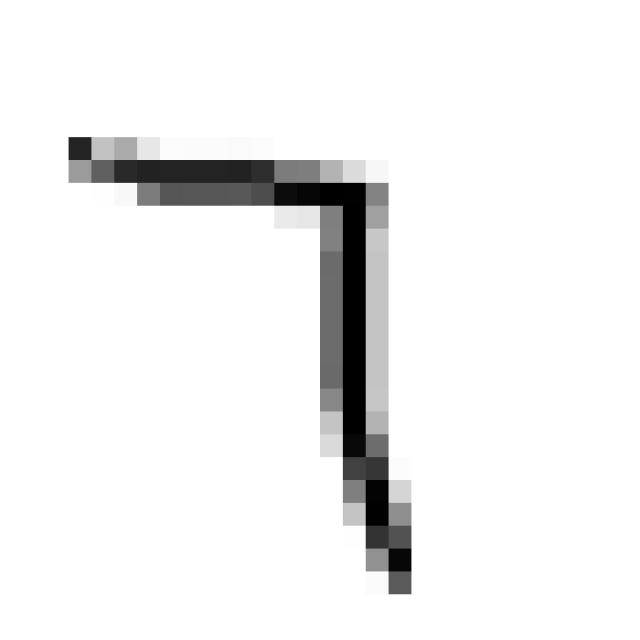6 -six-: (46, 114, 430, 612)
